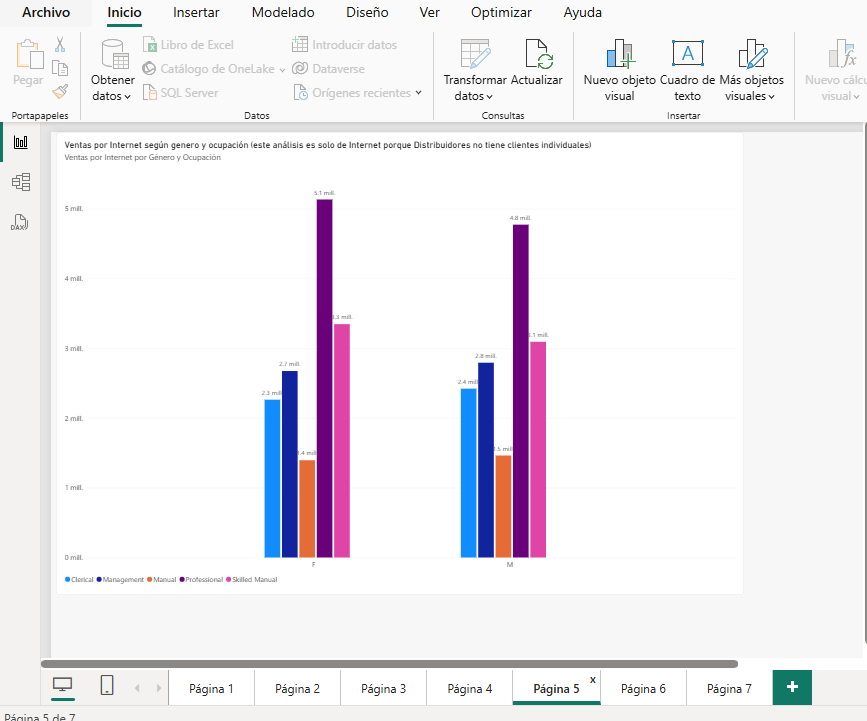

The dashboard page shown, as its layout file describes it:
{"tool":"powerbi","page":{"name":"Página 5","canvas":[1920,1080],"ordinal":4},"visuals":[{"type":"clusteredColumnChart","title":"Ventas por Internet según genero y ocupación (este análisis es solo de Internet porque Distribuidores no tiene clientes individuales)","fields":{"Category":["Dim Customer.Gender"],"Series":["Dim Customer.English Occupation"],"Y":["Fact Internet Sales.Sales Amount"]},"box":[10,0,1376,926],"z":0}]}

Visuals, with their boxes on the page's 1920x1080 design canvas (x1, y1, x2, y2). These are canvas units, not pixel positions in the 867x721 screenshot, which may show the page scaled, cropped or inside an application window:
"Ventas por Internet según genero y ocupación (este análisis es solo de Internet porque Distribuidores no tiene clientes individuales)" clusteredColumnChart: box=[10, 0, 1386, 926]
